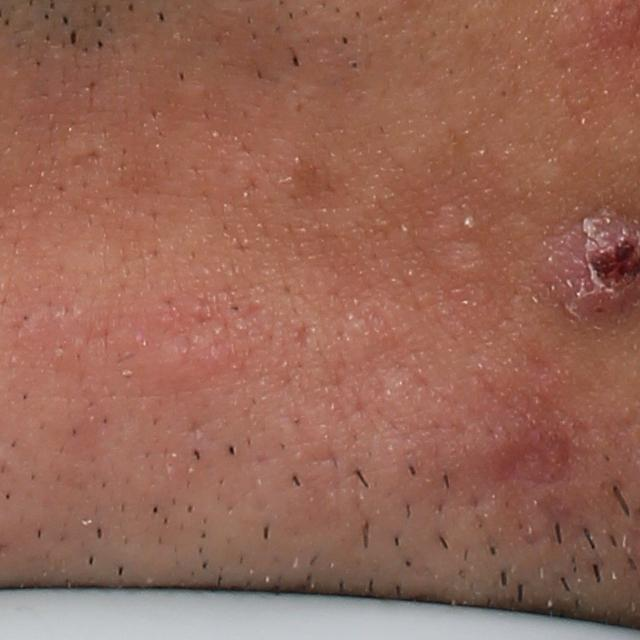atrophic_scar: (68, 146, 102, 173), (293, 315, 314, 352)
hypertrophic_scar: (432, 203, 499, 286)
